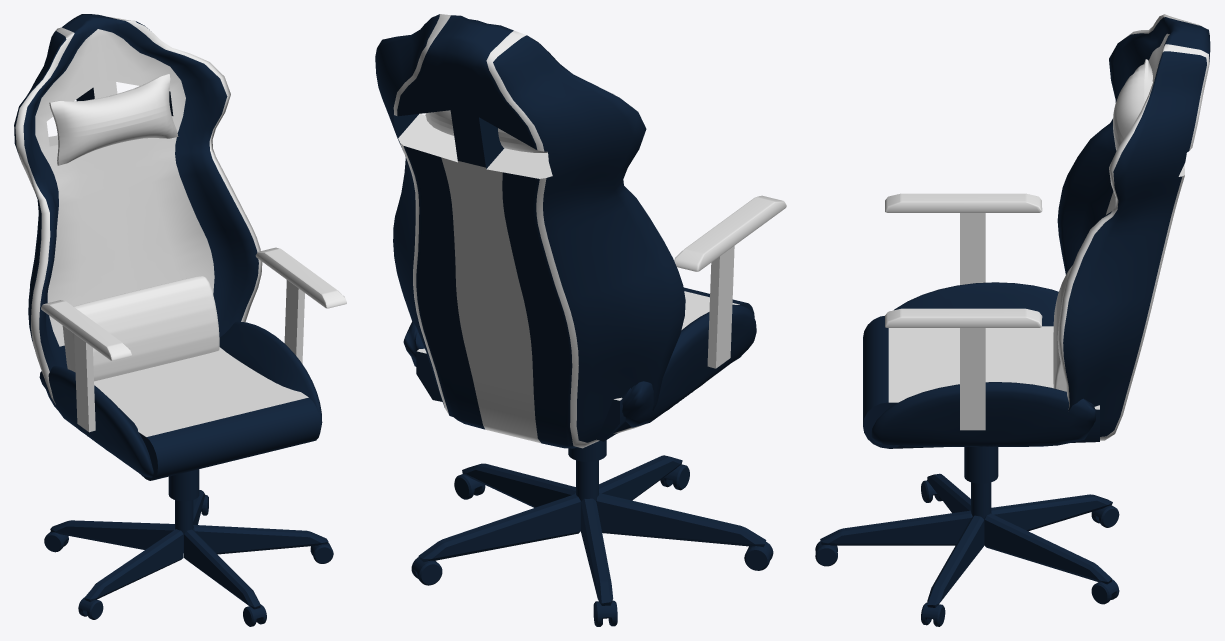
The model's file is chair.glb.
The picture shows the model from 3 angles, left to right: view 1: azimuth 30°, elevation 25°; view 2: azimuth 150°, elevation 25°; view 3: azimuth 270°, elevation 25°; orthographic projection. The views are drawn at different scales.
Parts seen in each view (by area): view 1: Cadeira; view 2: Cadeira; view 3: Cadeira.
Boxes of the visible parts, x1,y1,x2,y2 form: Cadeira: (14,14,346,626); Cadeira: (375,14,786,626); Cadeira: (815,14,1210,626).
Size of the model in its own units: 67.23 by 125 by 83.17.
